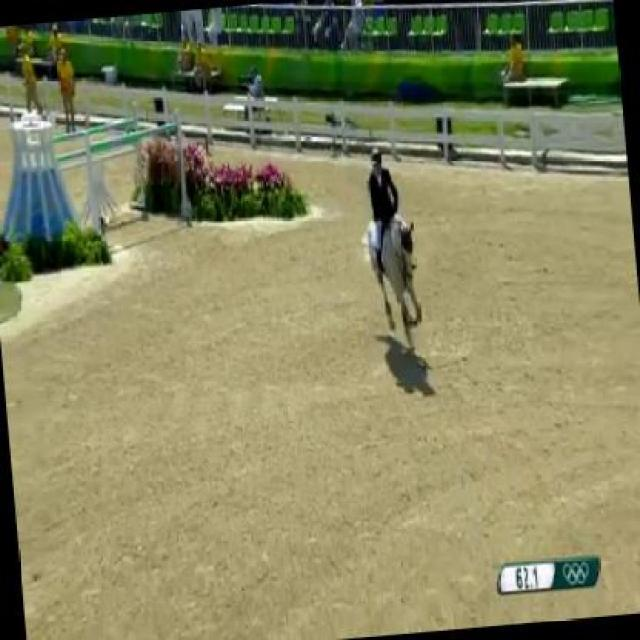non-fight: (357, 149, 425, 349)
